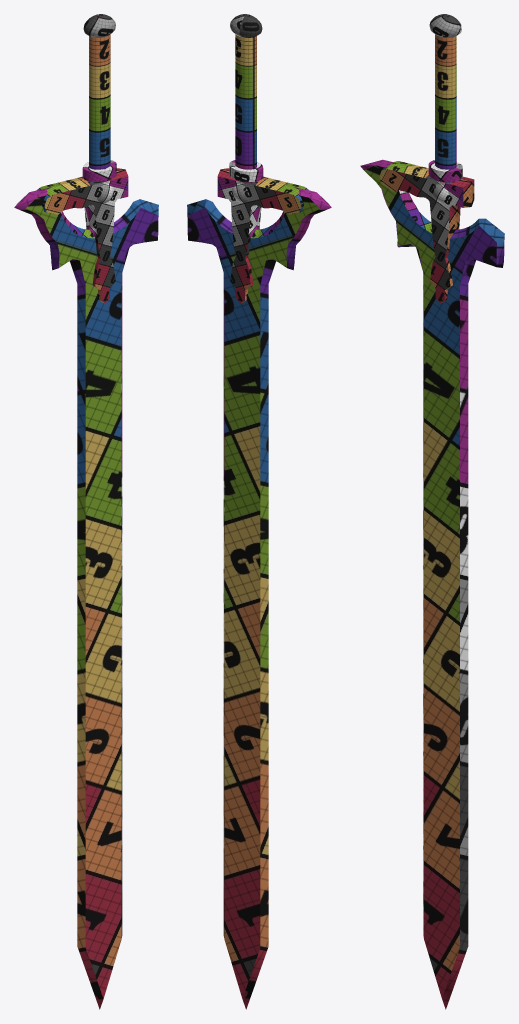
Rendered from SM_Elucidator.fbx.
The picture shows the model from 3 angles, left to right: view 1: azimuth 30°, elevation 25°; view 2: azimuth 150°, elevation 25°; view 3: azimuth 330°, elevation 25°; orthographic projection.
Parts seen in each view (by area): view 1: Elucidator; view 2: Elucidator; view 3: Elucidator.
Part boxes in pixels (left/top/right/bottom): Elucidator: left=14, top=14, right=158, bottom=1009; Elucidator: left=187, top=14, right=331, bottom=1009; Elucidator: left=360, top=14, right=504, bottom=1009.
Size of the model in its own units: 16.46 by 108 by 3.
Materials: 1 (1 with a texture image).
